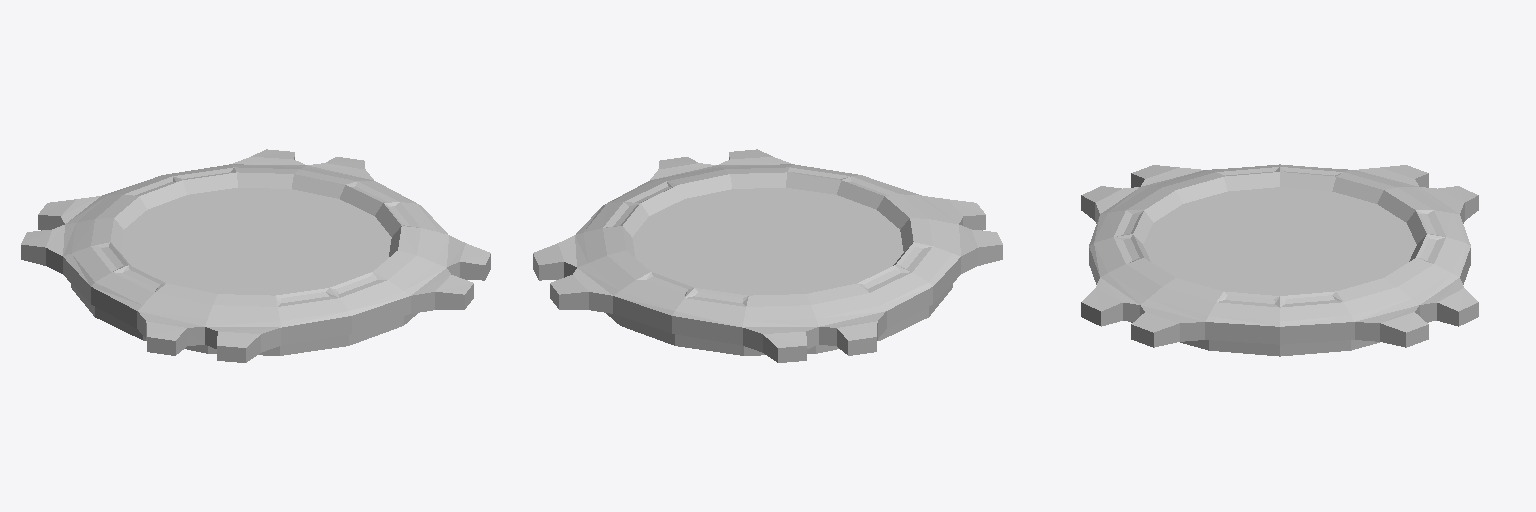
The model's file is mountMediumExt.obj.
The picture shows the model from 3 angles: view 1: azimuth 30°, elevation 25°; view 2: azimuth 150°, elevation 25°; view 3: azimuth 270°, elevation 25°; orthographic projection.
Visible parts, largest first — view 1: mountM_Cylinder.000; view 2: mountM_Cylinder.000; view 3: mountM_Cylinder.000.
Boxes of the visible parts, box(x1,y1,x2,y2) form: mountM_Cylinder.000: box(21, 149, 490, 362); mountM_Cylinder.000: box(533, 149, 1002, 362); mountM_Cylinder.000: box(1081, 164, 1478, 356).
Bounding box in the file's own units: 1.56 × 0.1909 × 1.56.